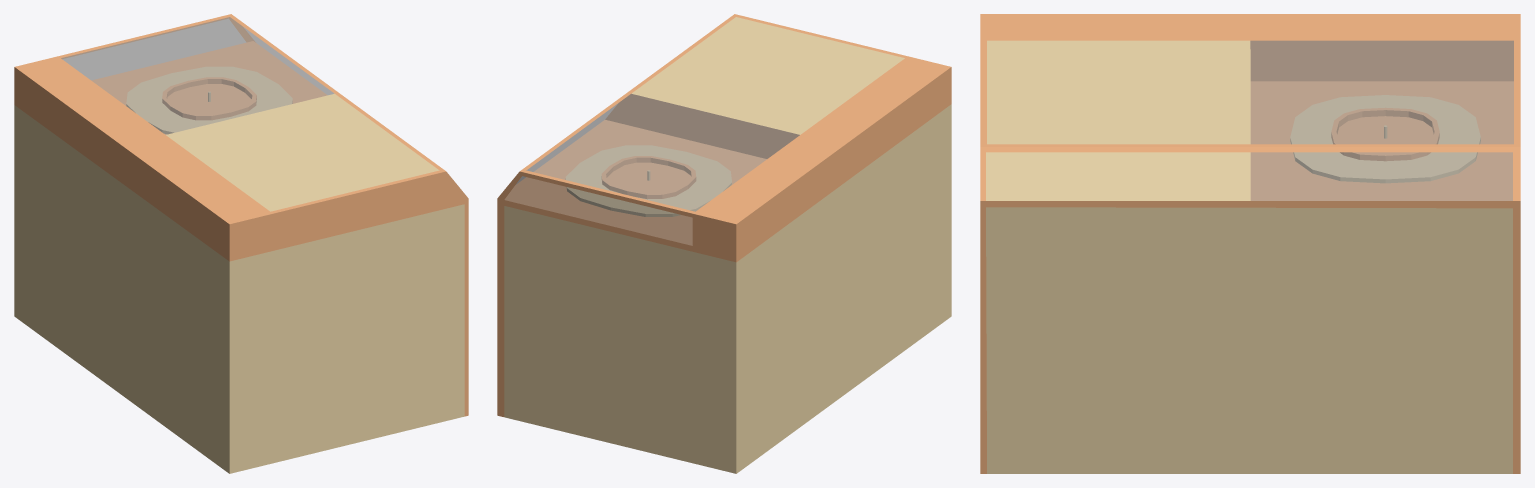
The model's file is LabConsole.fbx.
The picture shows the model from 3 angles, left to right: view 1: azimuth 30°, elevation 25°; view 2: azimuth 150°, elevation 25°; view 3: azimuth 270°, elevation 25°; orthographic projection. The views are drawn at different scales.
Parts seen in each view (by area): view 1: LabConsole; view 2: LabConsole; view 3: LabConsole.
Boxes of the visible parts, <box> form: LabConsole: <box>14,14,468,473</box>; LabConsole: <box>497,14,951,473</box>; LabConsole: <box>980,14,1520,473</box>.
Size of the model in its own units: 3.82 by 3.81 by 5.95.
Materials: 3 (2 with a texture image).
